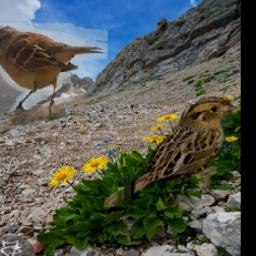Sparrow: (103, 96, 241, 207), (0, 24, 109, 132)
